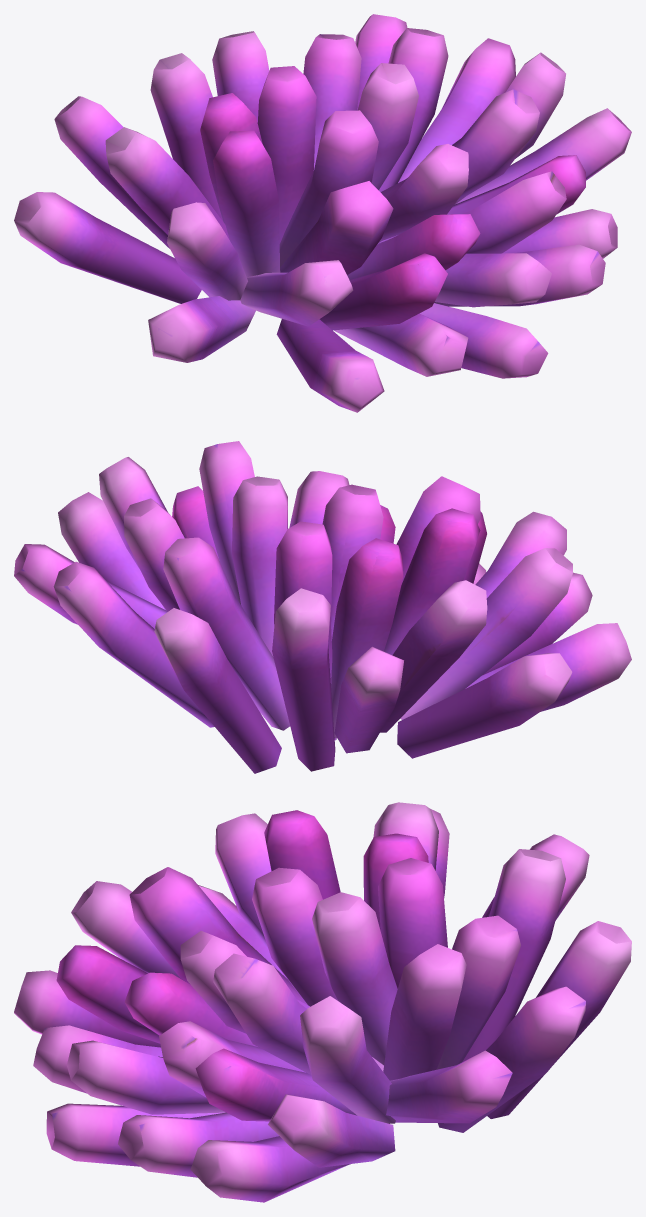
File: coral5.fbx
3 views of the same model, one above another, from view 1: azimuth 30°, elevation 25°; view 2: azimuth 150°, elevation 25°; view 3: azimuth 270°, elevation 25° (orthographic). The views are drawn at different scales.
Visible parts, largest first — view 1: node_id126; view 2: node_id126; view 3: node_id126.
Boxes of the visible parts, box(x1,y1,x2,y2) form: node_id126: box(14, 14, 631, 412); node_id126: box(14, 441, 631, 773); node_id126: box(14, 802, 631, 1202).
Size of the model in its own units: 0.512 by 0.2058 by 0.4362.
Materials: 1 (1 with a texture image).
